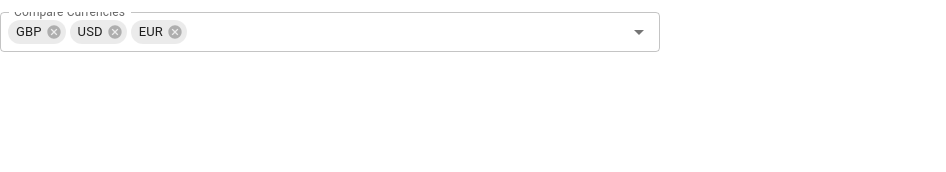
Scenario: CompareCurrenciesFilter › should show notification when minimum limit is reached when removing
Click the 3rd icon with test id "CancelIcon" at [175, 32], box [167,24,183,40]
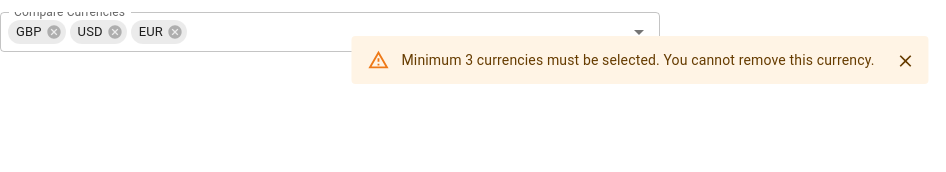
Now the text "Minimum 3 currencies must be selected" is shown, box [402,52,874,68]
